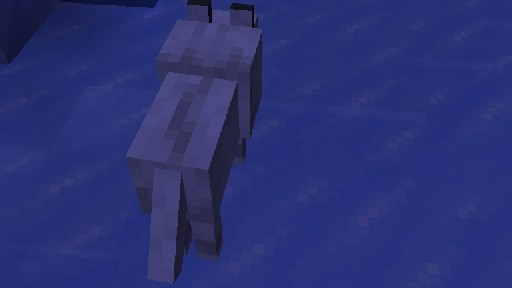wolf: (124, 0, 262, 283)
